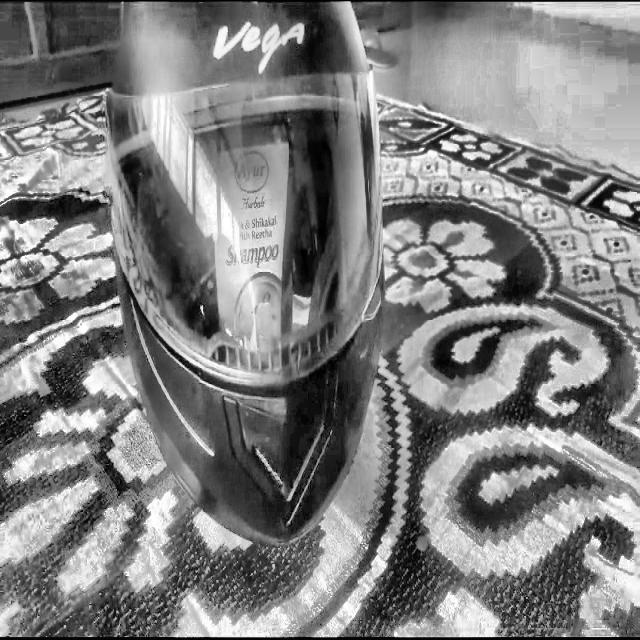Helmet: (101, 1, 397, 544)
